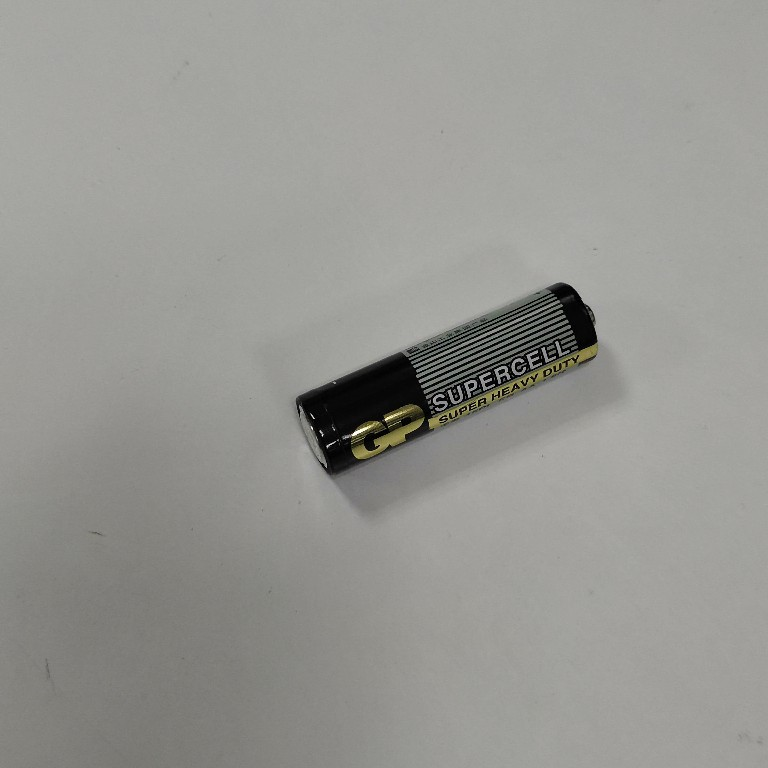charge: (285, 277, 601, 480)
